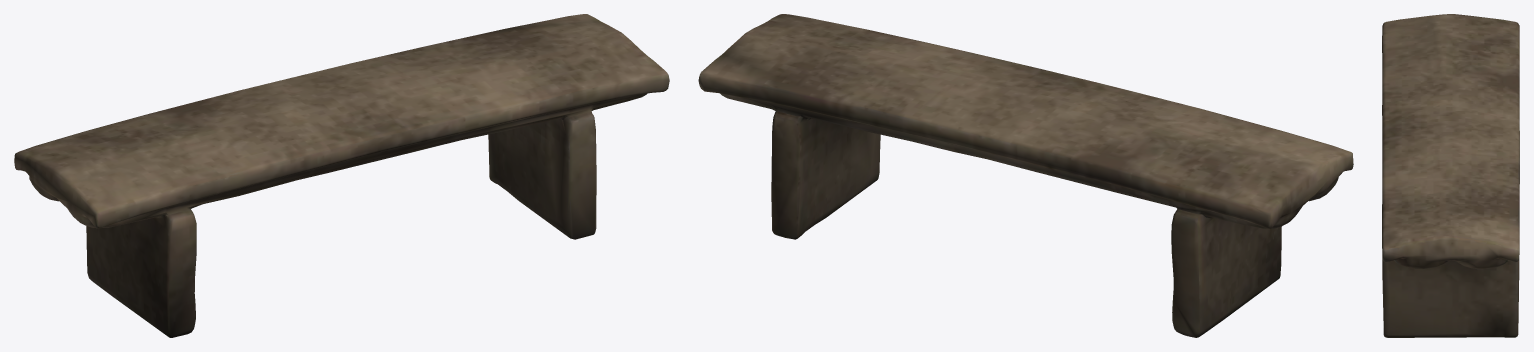
Rendered from plain-wood-bench-v001.glb.
The picture shows the model from 3 angles, left to right: view 1: azimuth 30°, elevation 25°; view 2: azimuth 150°, elevation 25°; view 3: azimuth 270°, elevation 25°; orthographic projection. The views are drawn at different scales.
Parts seen in each view (by area): view 1: plain-wood-bench; view 2: plain-wood-bench; view 3: plain-wood-bench.
Part boxes in pixels (x1,y1,x2,y2): plain-wood-bench: [14, 14, 669, 337]; plain-wood-bench: [698, 14, 1353, 337]; plain-wood-bench: [1382, 14, 1519, 337].
Size of the model in its own units: 1.54 by 0.4095 by 0.3915.
1 material, 1 textured.
